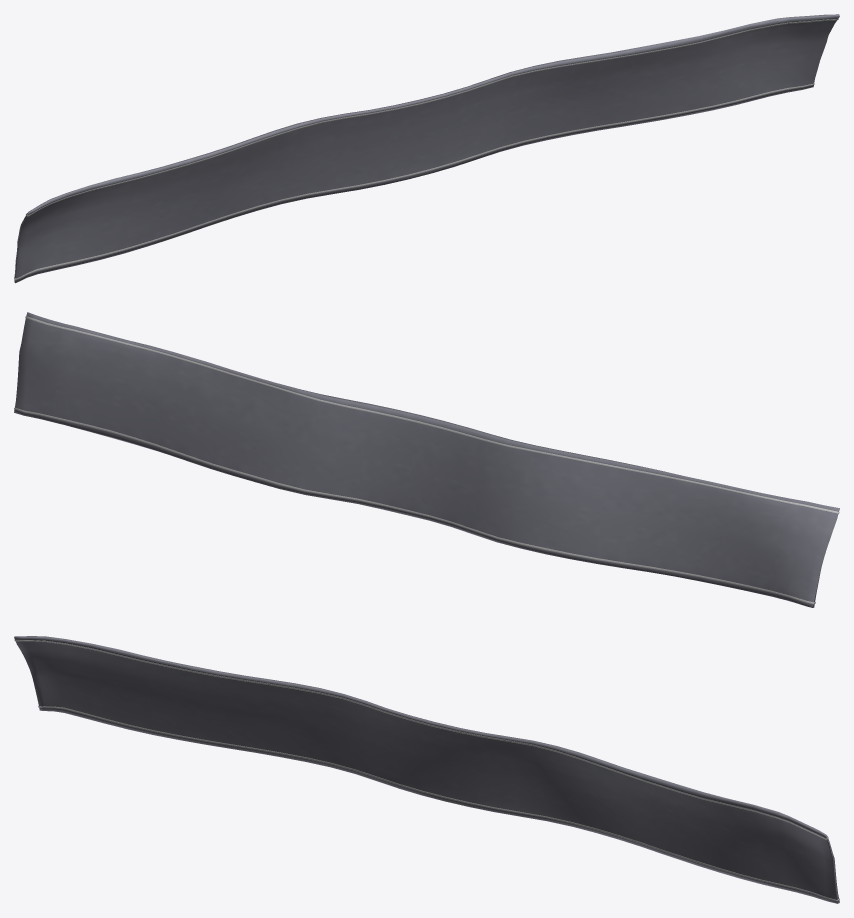
The model's file is Jac_Flic_BEHIND_V1.glb.
The picture shows the model from 3 angles, top to bottom: view 1: azimuth 30°, elevation 25°; view 2: azimuth 150°, elevation 25°; view 3: azimuth 330°, elevation 25°; orthographic projection.
Parts seen in each view (by area): view 1: Jac_Flic_BEHIND1.001, Jac_Rope_Flic_BEHIND1.001; view 2: Jac_Flic_BEHIND1.001, Jac_Rope_Flic_BEHIND1.001; view 3: Jac_Flic_BEHIND1.001, Jac_Rope_Flic_BEHIND1.001.
Boxes of the visible parts, x1,y1,x2,y2 form: Jac_Flic_BEHIND1.001: (14,14,839,283); Jac_Rope_Flic_BEHIND1.001: (14,18,838,280); Jac_Flic_BEHIND1.001: (14,312,839,607); Jac_Rope_Flic_BEHIND1.001: (14,316,839,604); Jac_Flic_BEHIND1.001: (14,636,839,903); Jac_Rope_Flic_BEHIND1.001: (14,640,839,901).
Size of the model in its own units: 0.7739 by 0.0837 by 0.057.
Materials: 2 (2 with a texture image).
